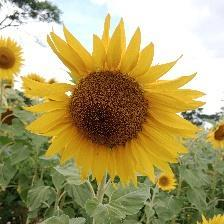sunflower: (20, 11, 211, 191)
